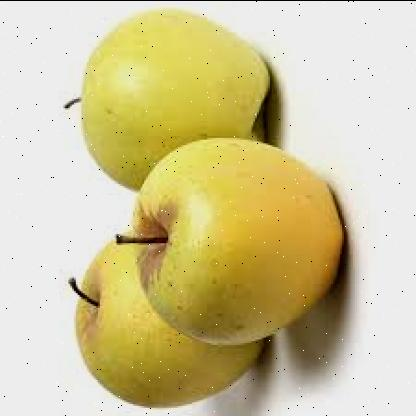apple: (137, 137, 342, 344), (81, 5, 283, 185), (76, 231, 266, 403)
